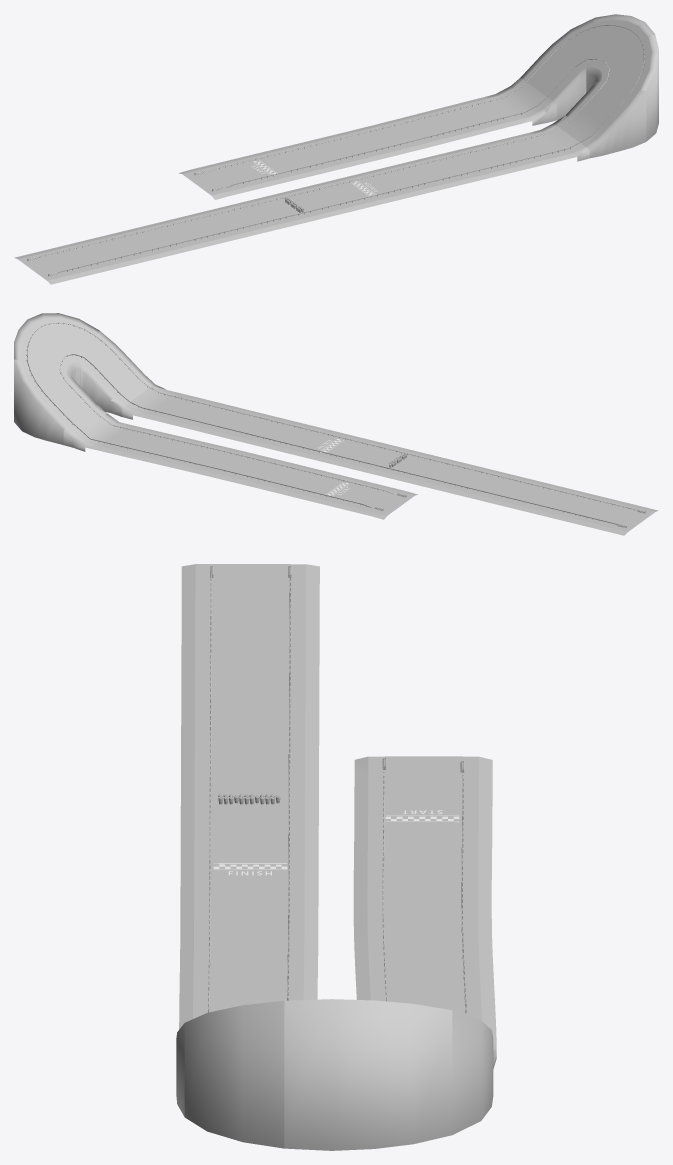
Rendered from Road10D40.fbx.
3 renders of one model, top to bottom at view 1: azimuth 30°, elevation 25°; view 2: azimuth 150°, elevation 25°; view 3: azimuth 270°, elevation 25°, orthographic. The views are drawn at different scales.
Visible parts, largest first — view 1: Markers0.017, Markers7.017, Markers1.017, Markers2.017, Markers8.017, SCutR3.017, SCutR0.017, Markers3.017, Markers6.017, WBeam2R.017, SCutL7.017, WBeam2L.017 (+18 smaller); view 2: Markers0.017, Markers7.017, Markers1.017, Markers2.017, SCutR6.017, Markers8.017, SCutL0.017, Markers3.017, Markers6.017, WBeam2R.017, SCutR7.017, SCutR0.017 (+18 smaller); view 3: SCutR5.017, Markers0.017, SCutR4.017, Markers1.017, Markers8.017, Markers2.017, SCutL0.017, SCutR0.017, Markers7.017, Markers9.017, SCutR6.017, SCutR1.017 (+11 smaller).
Part boxes in pixels (bbox=[...]): Markers0.017: bbox=[22, 206, 274, 277]; Markers7.017: bbox=[382, 83, 547, 144]; Markers1.017: bbox=[254, 167, 433, 220]; Markers2.017: bbox=[413, 129, 581, 182]; Markers8.017: bbox=[260, 129, 402, 174]; SCutR3.017: bbox=[582, 88, 646, 158]; SCutR0.017: bbox=[43, 221, 282, 284]; Markers3.017: bbox=[560, 83, 634, 143]; Markers6.017: bbox=[527, 29, 592, 97]; WBeam2R.017: bbox=[58, 25, 644, 272]; SCutL7.017: bbox=[404, 98, 556, 151]; WBeam2L.017: bbox=[37, 59, 609, 257]; Markers0.017: bbox=[415, 461, 650, 529]; Markers7.017: bbox=[72, 410, 227, 467]; Markers1.017: bbox=[266, 425, 433, 475]; Markers2.017: bbox=[129, 388, 285, 439]; SCutR6.017: bbox=[14, 359, 71, 444]; Markers8.017: bbox=[209, 453, 341, 495]; SCutL0.017: bbox=[407, 476, 631, 535]; Markers3.017: bbox=[86, 338, 147, 402]; Markers6.017: bbox=[27, 362, 91, 423]; WBeam2R.017: bbox=[26, 322, 636, 510]; SCutR7.017: bbox=[63, 424, 207, 474]; SCutR0.017: bbox=[435, 457, 658, 514]; SCutR5.017: bbox=[284, 999, 452, 1150]; Markers0.017: bbox=[210, 564, 290, 776]; SCutR4.017: bbox=[184, 1001, 284, 1148]; Markers1.017: bbox=[210, 776, 289, 921]; Markers8.017: bbox=[383, 823, 462, 935]; Markers2.017: bbox=[209, 921, 288, 1012]; SCutL0.017: bbox=[289, 564, 319, 778]; SCutR0.017: bbox=[181, 564, 211, 778]; Markers7.017: bbox=[383, 935, 465, 1014]; Markers9.017: bbox=[384, 756, 462, 823]; SCutR6.017: bbox=[452, 1010, 493, 1134]; SCutR1.017: bbox=[180, 776, 210, 923].
Size of the model in its own units: 26086 by 3275 by 6094.
